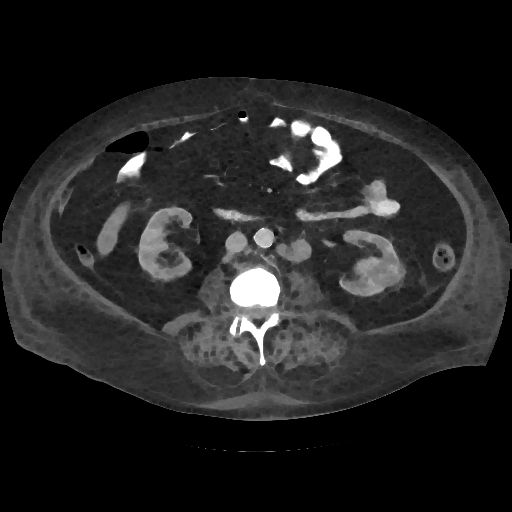Lesion: (367, 256, 408, 293)
